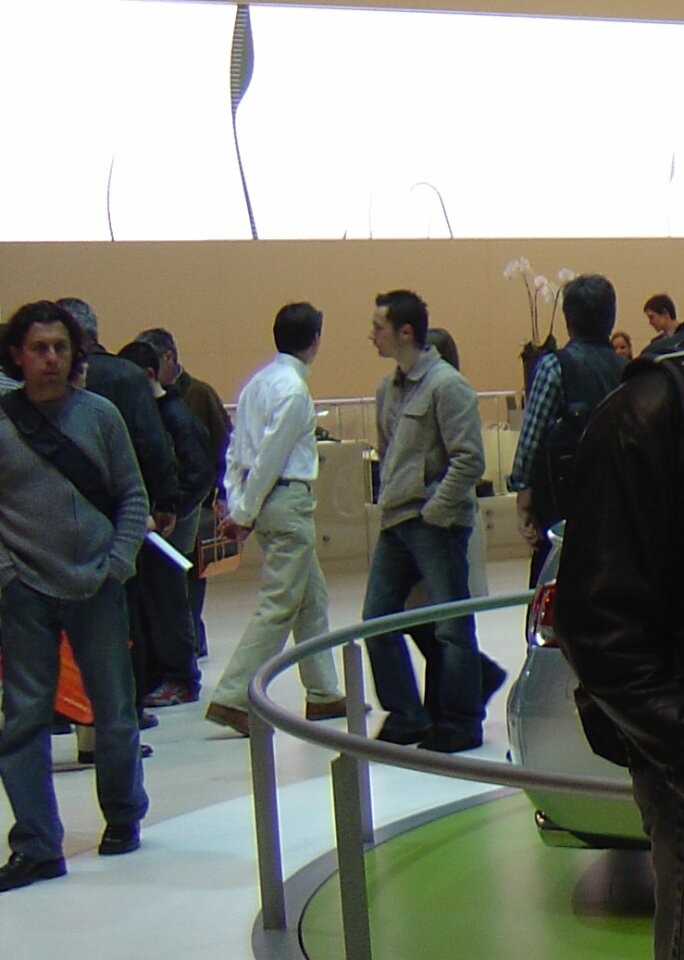person: (1, 287, 154, 902), (349, 286, 523, 757), (207, 287, 369, 757), (514, 269, 647, 544)
